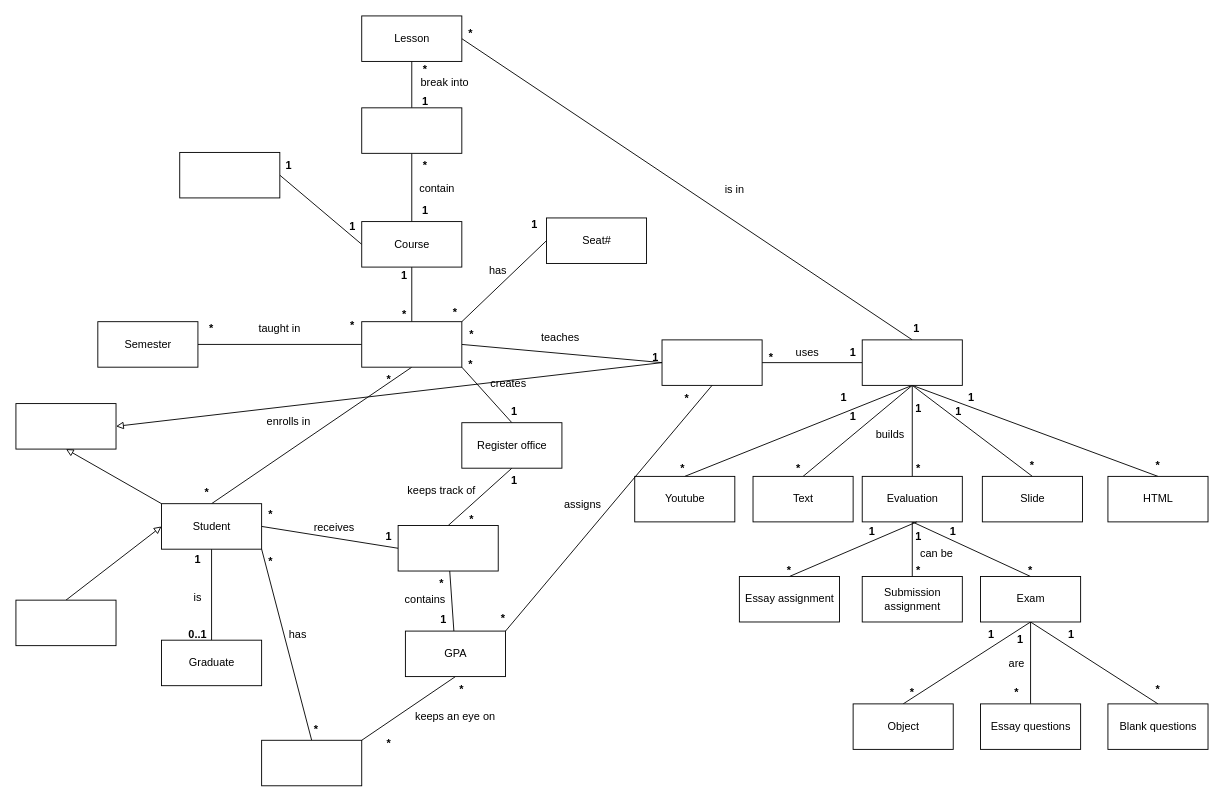
Some shapes in this 1224 by 802 pixel diagram are drawn without their labels. Each missing label, with the centre of its shape:
Enrollment: [447,548]
Faculty: [711,362]
Module: [411,130]
Popularity: [229,175]
Scholarship: [311,762]
Section: [411,344]
TA: [65,622]
User: [65,426]
Widget: [911,362]
